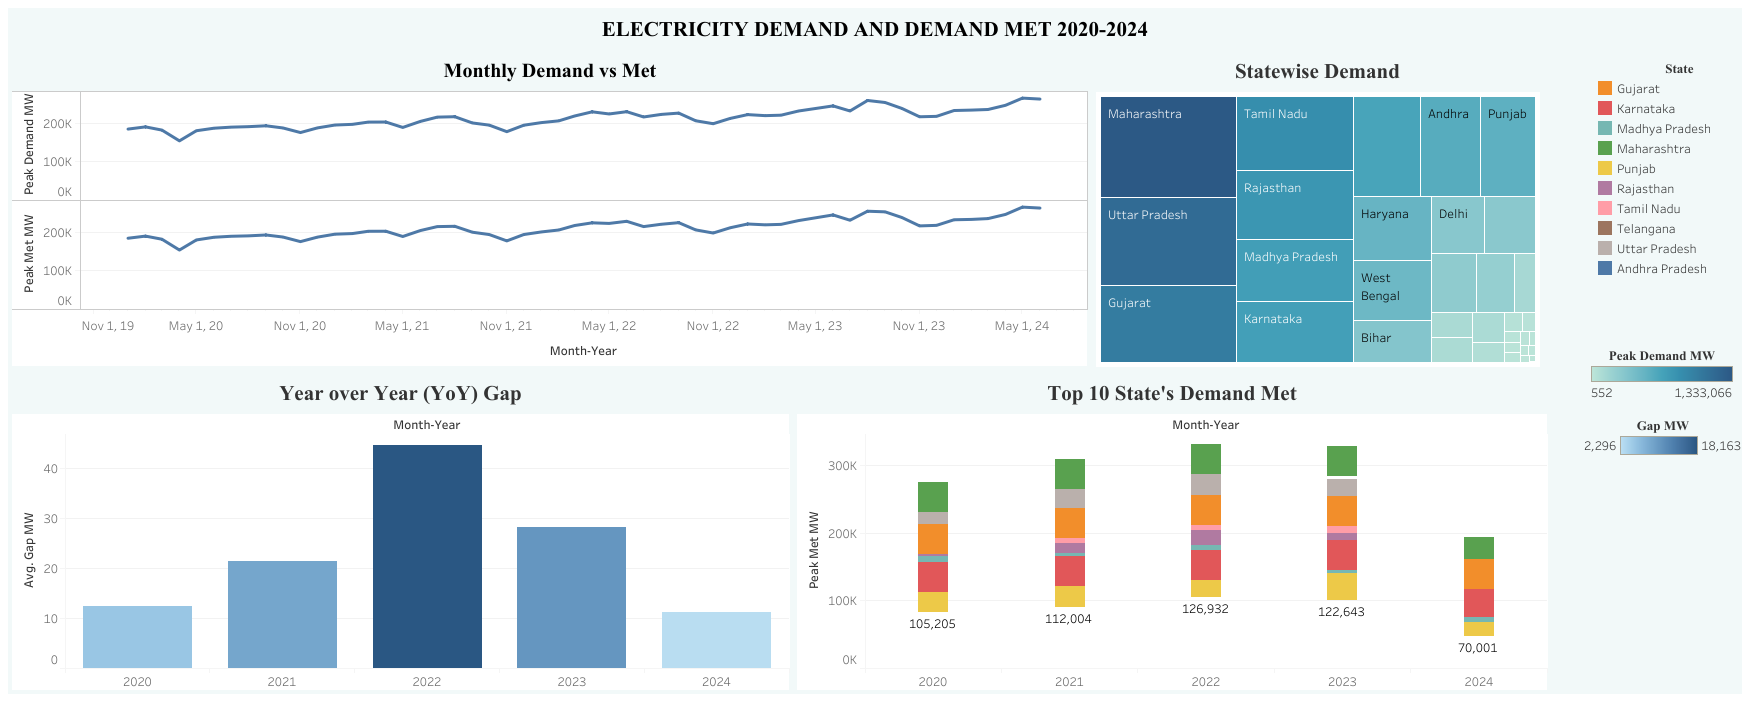

What the dashboard file says about the page in this screenshot:
{"tool":"tableau","page":{"name":"Dashboard 1","canvas":[1000,1000],"units":"permille","ordinal":0},"visuals":[{"type":"text","box":[6.9,14.5,986.1,58]},{"type":"worksheet","title":"Monthly Demand vs Met","mark":"Automatic","rows":["Peak Demand MW","Peak Met MW"],"cols":["Month-Year"],"box":[6.9,72.5,470.1,456.5]},{"type":"worksheet","title":"Statewise Demand ","mark":"Automatic","box":[477.1,72.5,377.5,456.5]},{"type":"legend","title":"Statewise Demand ","param":"[federated.1ct4h6100dbf1b106yqha1ks430r].[sum:Peak Demand MW:qk]","box":[854.5,72.5,138.5,117.8]},{"type":"legend","title":"Year over Year Gap","param":"[federated.1ct4h6100dbf1b106yqha1ks430r].[sum:Gap MW:qk]","box":[854.5,190.2,138.5,117.8]},{"type":"legend","title":"Top 10 State's Demand Met","param":"[federated.1ct4h6100dbf1b106yqha1ks430r].[none:State:nk]","box":[854.5,308,138.5,409.4]},{"type":"worksheet","title":"Year over Year Gap","mark":"Bar","rows":["Gap MW"],"cols":["Month-Year"],"box":[6.9,529,431.2,456.5]},{"type":"worksheet","title":"Top 10 State's Demand Met","mark":"Square","rows":["Peak Met MW"],"cols":["Month-Year"],"box":[438.1,529,416.4,456.5]}]}

Visuals, with their boxes on the dashboard's canvas, which has no fixed pixel size, in thousandths of its width and height (x1, y1, x2, y2). These are canvas units, not pixel positions in the 1749x701 screenshot, which may show the page scaled, cropped or inside an application window:
text: {"left": 7, "top": 14, "right": 993, "bottom": 72}
"Monthly Demand vs Met" worksheet: {"left": 7, "top": 72, "right": 477, "bottom": 529}
"Statewise Demand " worksheet: {"left": 477, "top": 72, "right": 855, "bottom": 529}
"Statewise Demand " legend: {"left": 854, "top": 72, "right": 993, "bottom": 190}
"Year over Year Gap" legend: {"left": 854, "top": 190, "right": 993, "bottom": 308}
"Top 10 State's Demand Met" legend: {"left": 854, "top": 308, "right": 993, "bottom": 717}
"Year over Year Gap" worksheet (Bar marks): {"left": 7, "top": 529, "right": 438, "bottom": 986}
"Top 10 State's Demand Met" worksheet (Square marks): {"left": 438, "top": 529, "right": 854, "bottom": 986}
